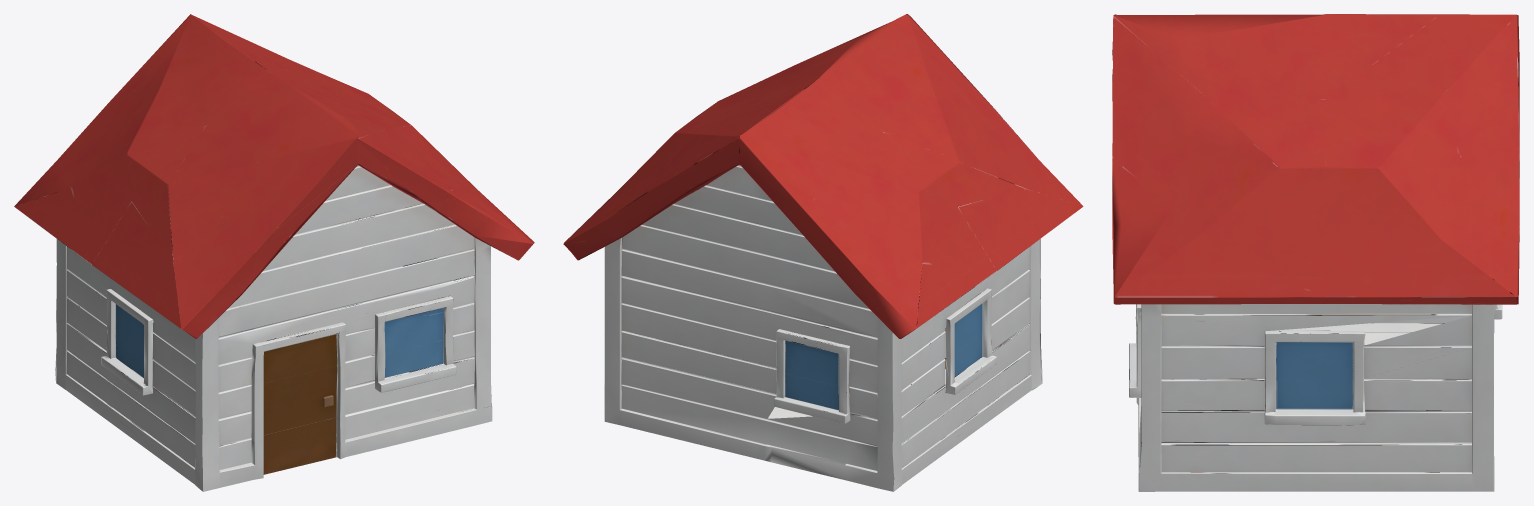
The model's file is 01-small-house-red-roof.glb.
3 views of the same model, side by side, from view 1: azimuth 30°, elevation 25°; view 2: azimuth 150°, elevation 25°; view 3: azimuth 270°, elevation 25° (orthographic). The views are drawn at different scales.
Parts seen in each view (by area): view 1: geometry_0; view 2: geometry_0; view 3: geometry_0.
Boxes of the visible parts, bbox=[...] form: geometry_0: bbox=[14, 14, 534, 491]; geometry_0: bbox=[563, 14, 1083, 491]; geometry_0: bbox=[1112, 14, 1519, 491].
Size of the model in its own units: 0.9473 by 0.8345 by 0.7832.
1 material, 1 textured.
